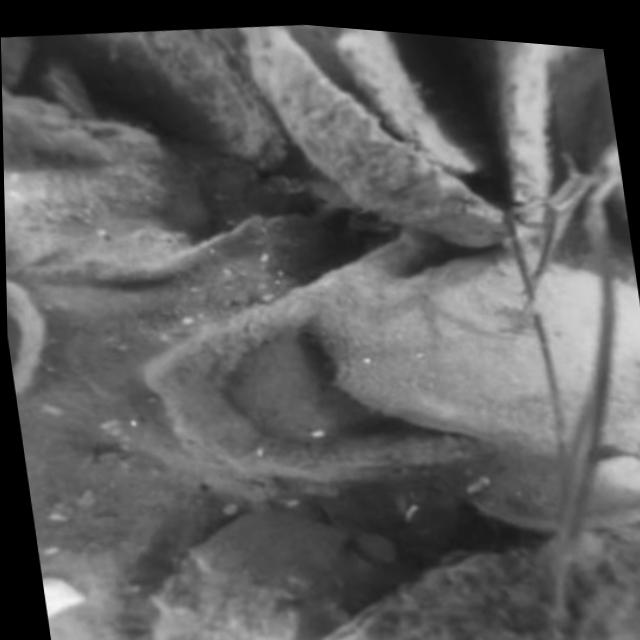Oyster-Indeterminate: (139, 228, 508, 478), (324, 248, 640, 455), (321, 525, 640, 640), (2, 87, 193, 261), (59, 32, 288, 165), (154, 511, 339, 640), (338, 28, 499, 172), (58, 601, 118, 640), (593, 455, 640, 494)
Oyster-Open: (244, 25, 554, 243)
